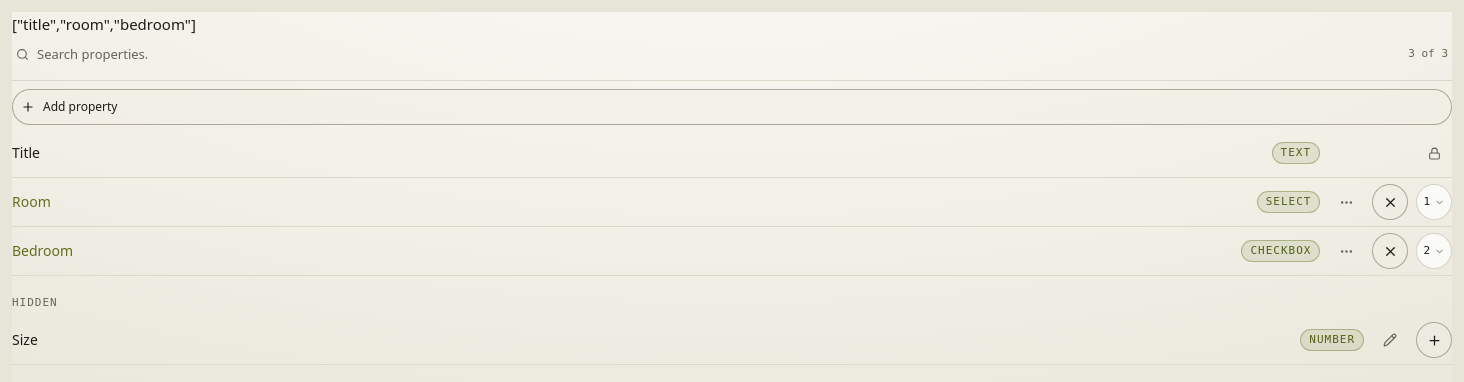
Test: ColumnPanel › does not offer conversion for a column format that cannot become a relation
Click the button named "More actions for Bedroom": [1346, 251] box 1328,233 -> 1364,269
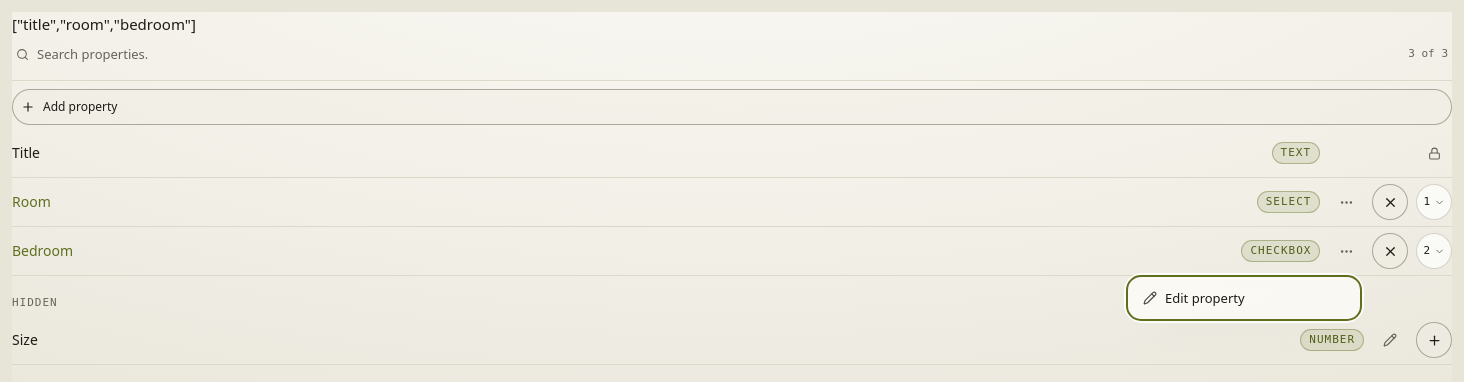
Now the menu item "Edit property" is shown, box 1143,289 -> 1245,307
